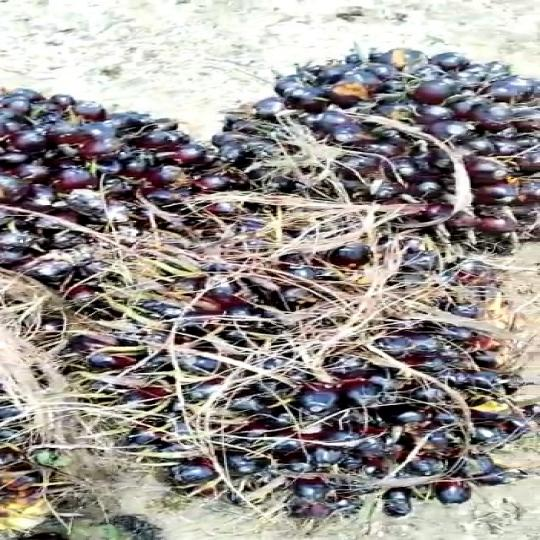mentah: (48, 206, 538, 520), (191, 29, 540, 283), (0, 76, 186, 448)
